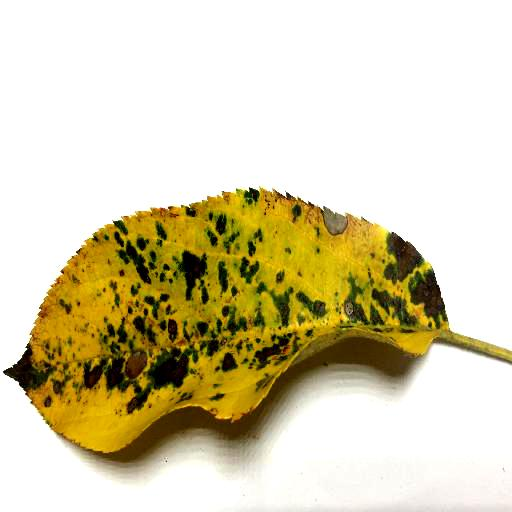Brown_Spot: (5, 193, 512, 476)
